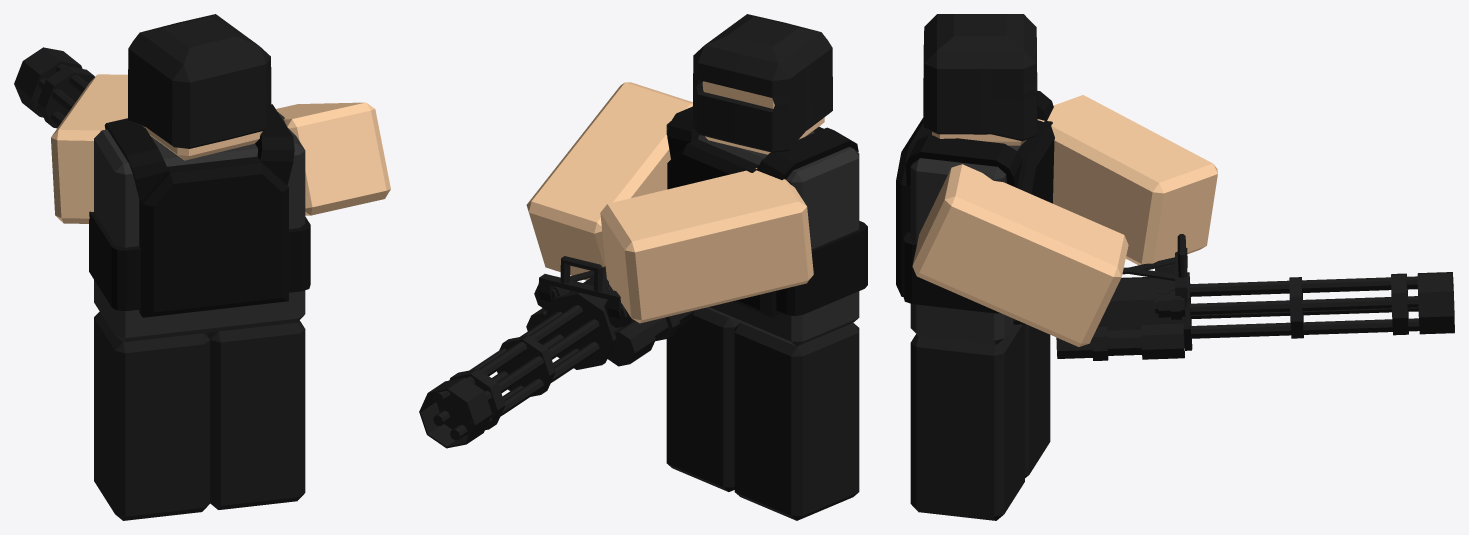
The picture shows the model from 3 angles, left to right: view 1: azimuth 30°, elevation 25°; view 2: azimuth 150°, elevation 25°; view 3: azimuth 270°, elevation 25°; orthographic projection. The views are drawn at different scales.
Parts seen in each view (by area): view 1: SWAT.Torso, SWAT.Legs, SWAT.Arm_R, SWAT.Arm_L; view 2: SWAT.Torso, SWAT.Arm_R, SWAT.Legs, SWAT.Arm_L; view 3: SWAT.Arm_R, SWAT.Torso, SWAT.Legs, SWAT.Arm_L.
Part boxes in pixels (<box>): SWAT.Torso: <box>89,14,310,342</box>; SWAT.Legs: <box>94,311,305,520</box>; SWAT.Arm_R: <box>14,47,390,215</box>; SWAT.Arm_L: <box>51,74,127,223</box>; SWAT.Torso: <box>666,14,867,346</box>; SWAT.Arm_R: <box>419,82,694,448</box>; SWAT.Legs: <box>666,308,859,520</box>; SWAT.Arm_L: <box>600,168,813,323</box>; SWAT.Arm_R: <box>912,164,1454,360</box>; SWAT.Torso: <box>896,14,1054,344</box>; SWAT.Legs: <box>910,324,1050,520</box>; SWAT.Arm_L: <box>1037,95,1217,265</box>.
Bounding box in the file's own units: 317 × 518 × 576.
